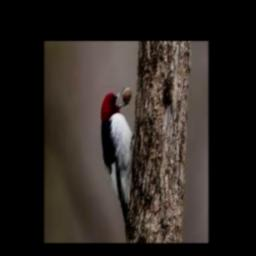Woodpecker: (101, 86, 134, 240)
